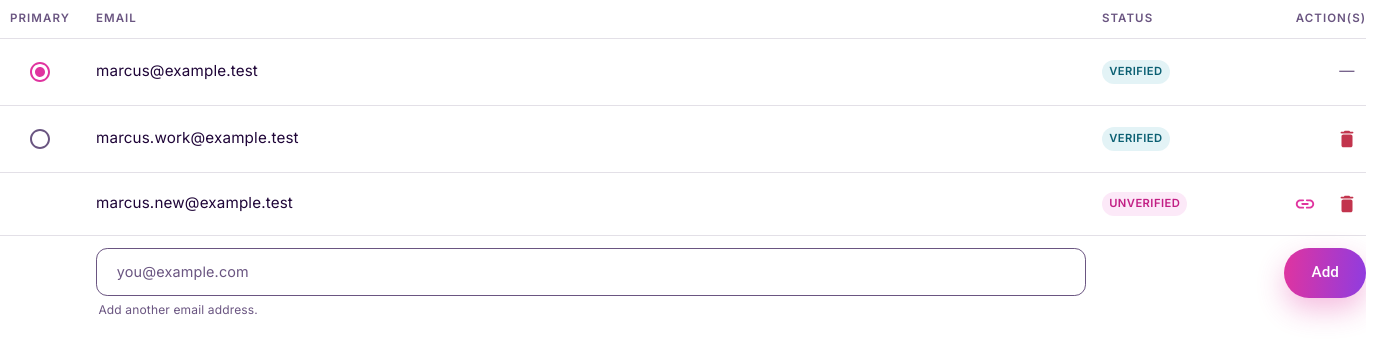
the last row, which adds an address › refuses a typo without asking the API
In the field named "Add an email address": (591, 272) [96,248,1086,296], type "marcus"
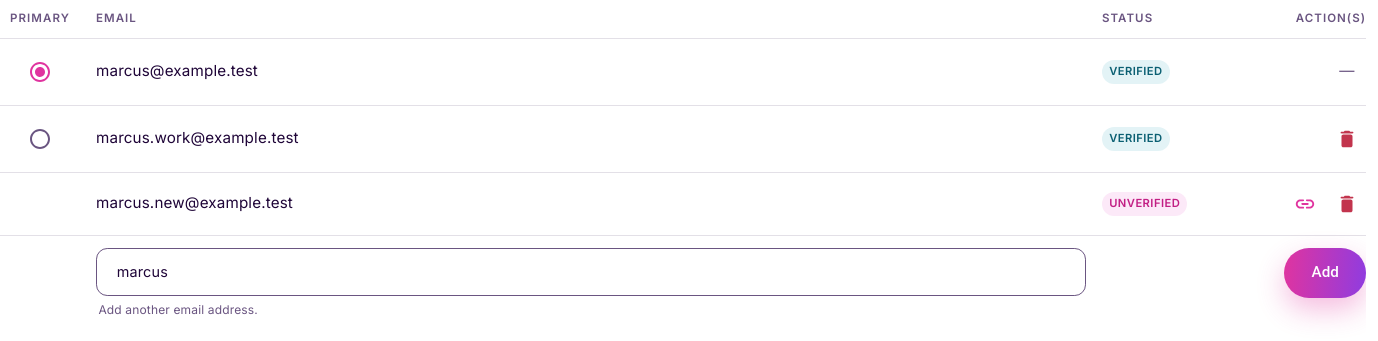
Click the button "Add": (1325, 273) [1284,248,1366,298]
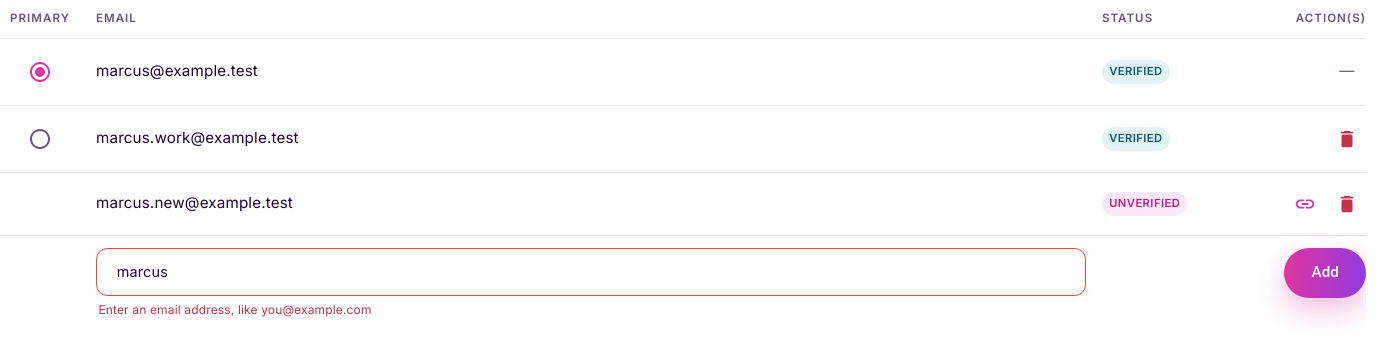
Now the text "Enter an email address, like you@example.com" is shown, box [98,302,372,317]
